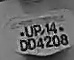0: (52, 35, 60, 47)
1: (44, 21, 50, 35)
2: (43, 36, 53, 48)
4: (36, 37, 44, 50), (50, 20, 57, 34)
8: (59, 33, 69, 46)
D: (19, 39, 28, 52), (27, 38, 36, 50)
P: (33, 22, 41, 37)
U: (23, 24, 33, 38)
